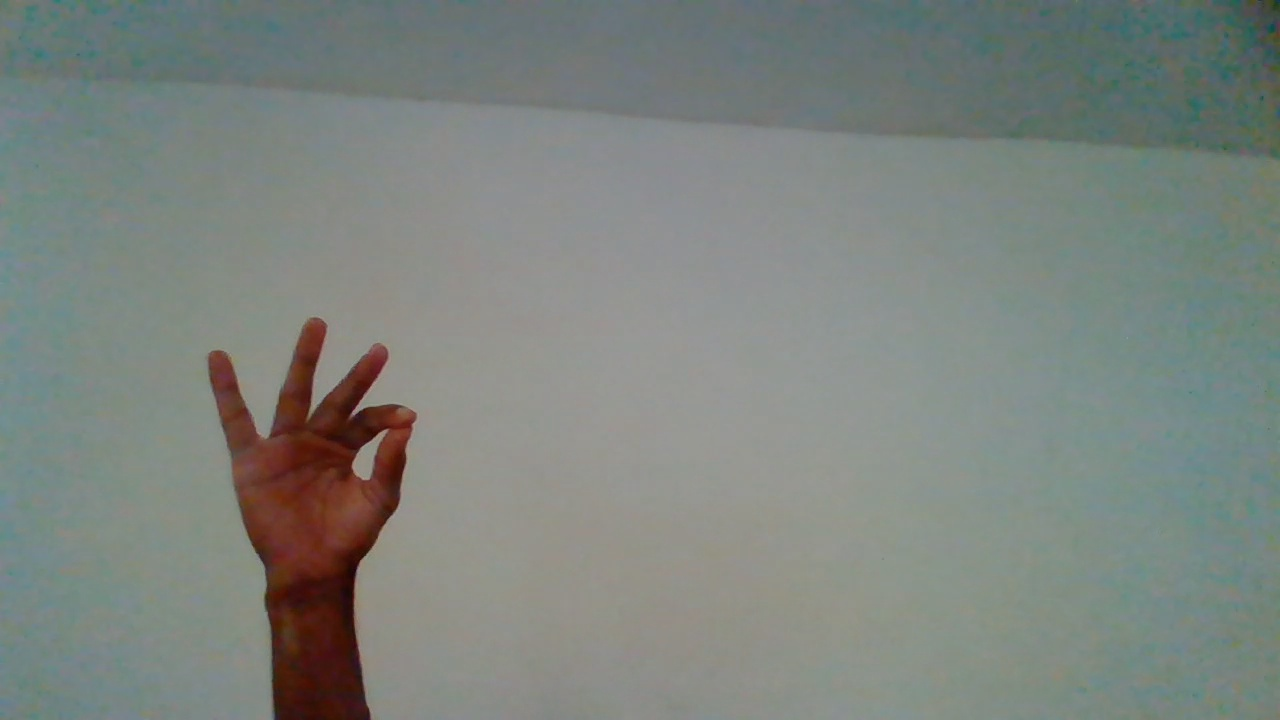le: (206, 315, 419, 700)
